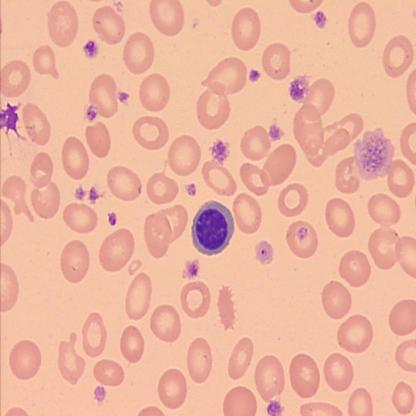NRC: (190, 197, 235, 258)
